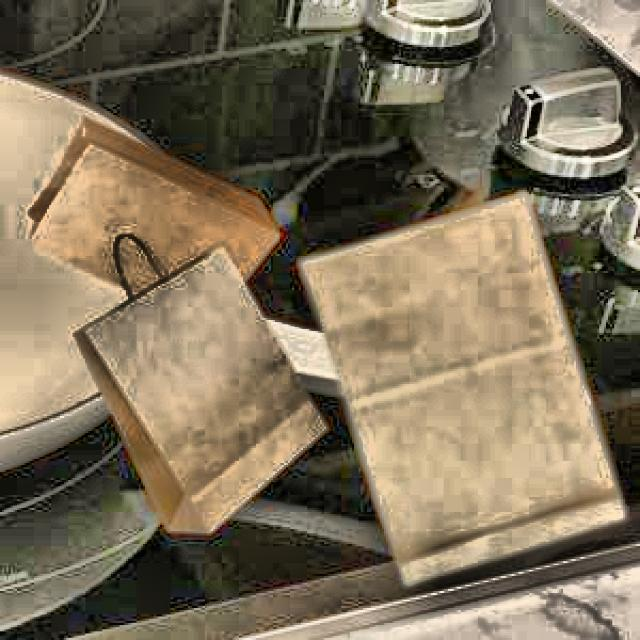Paper-bag: (278, 152, 634, 601), (76, 225, 337, 570), (13, 103, 296, 314)
